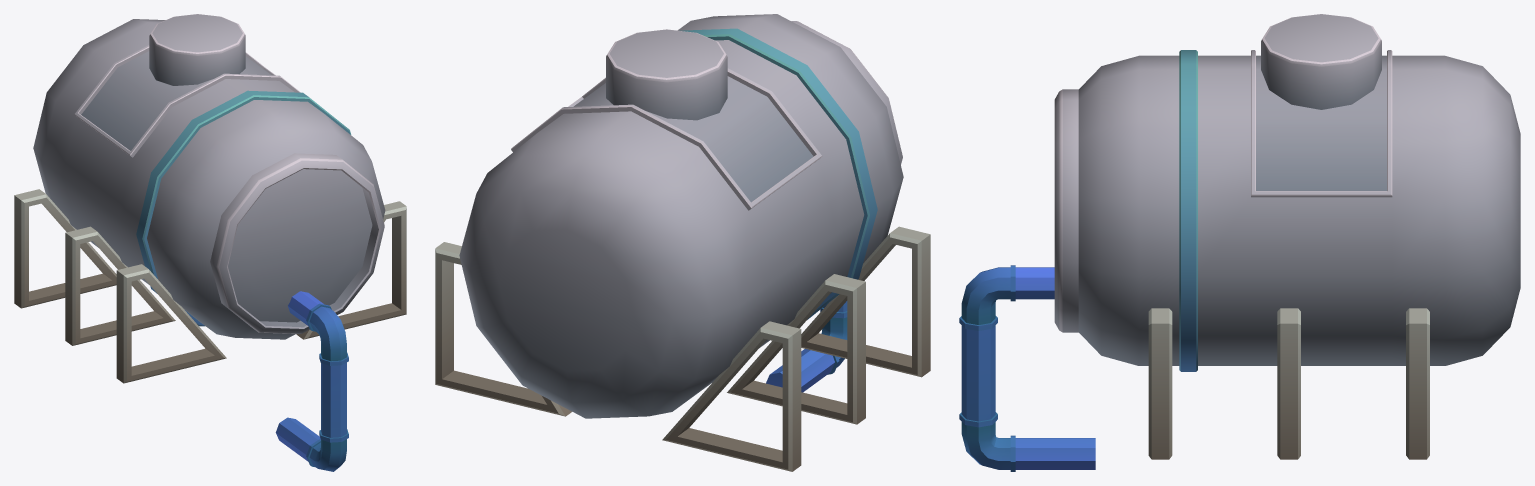
File: sp_build_prop_watertank.fbx
3 renders of one model, left to right at view 1: azimuth 30°, elevation 25°; view 2: azimuth 150°, elevation 25°; view 3: azimuth 270°, elevation 25°, orthographic. The views are drawn at different scales.
Visible parts, largest first — view 1: build_prop_watertank; view 2: build_prop_watertank; view 3: build_prop_watertank.
Part boxes in pixels (x1,y1,x2,y2): build_prop_watertank: [14, 14, 406, 471]; build_prop_watertank: [435, 14, 930, 471]; build_prop_watertank: [959, 14, 1520, 471].
Size of the model in its own units: 203 by 236 by 277.
